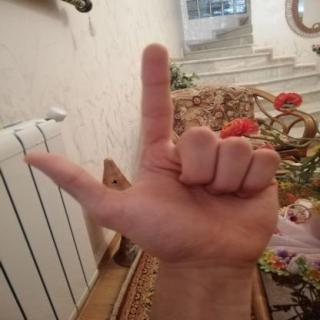LAAM: (8, 33, 291, 275)
